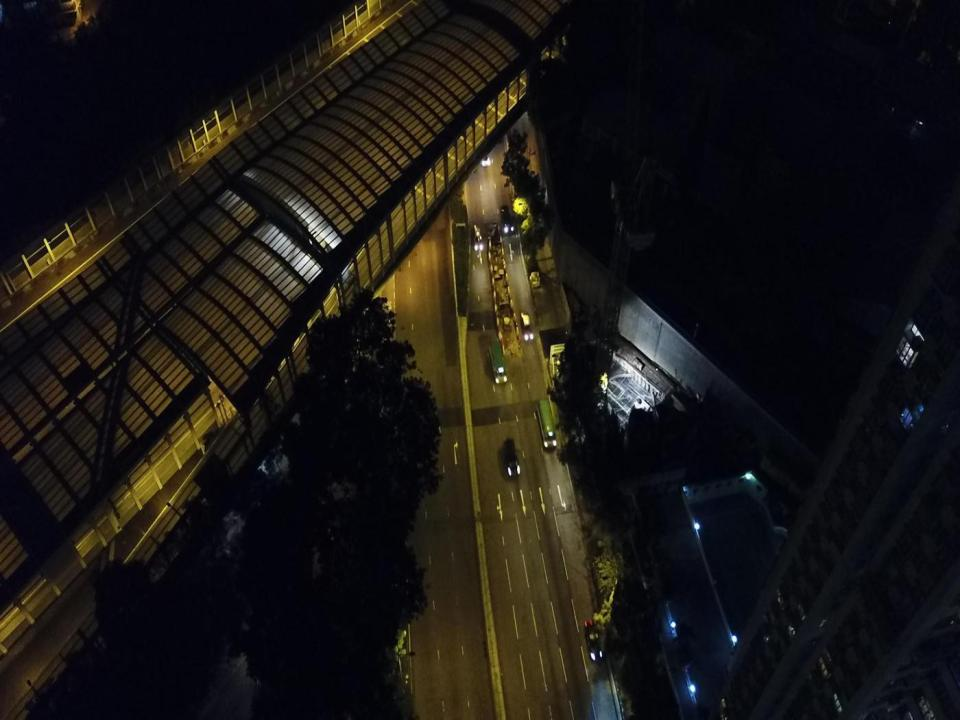bus: (535, 399, 557, 450), (488, 339, 507, 385)
car: (583, 618, 605, 662), (503, 436, 521, 478), (499, 205, 514, 234), (520, 310, 533, 340), (472, 224, 483, 250), (479, 142, 490, 167)
